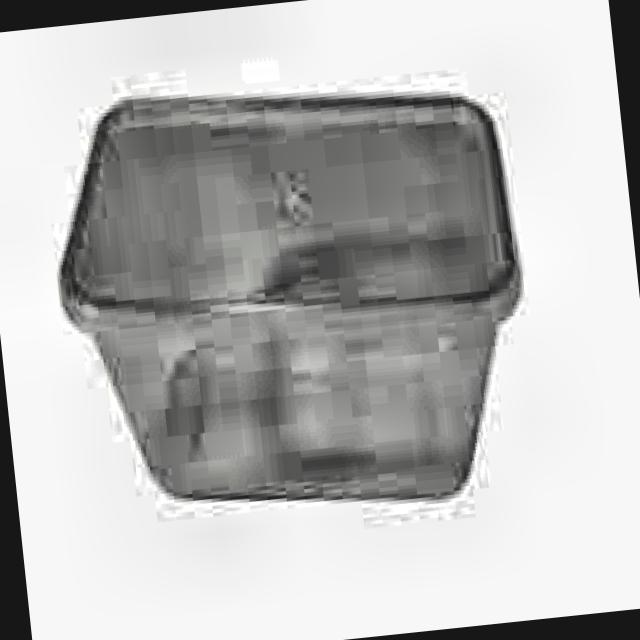plastic container: (59, 97, 520, 495)
